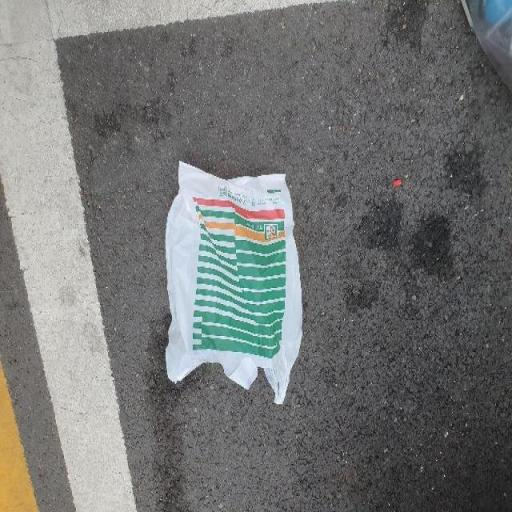plastic-bag: (163, 158, 306, 408)
